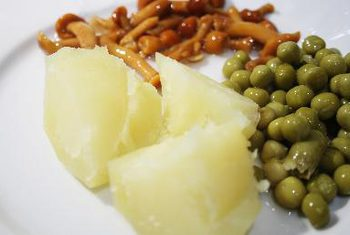boiled peas: (265, 62, 337, 209)
boiled potatoes: (59, 44, 238, 210)
